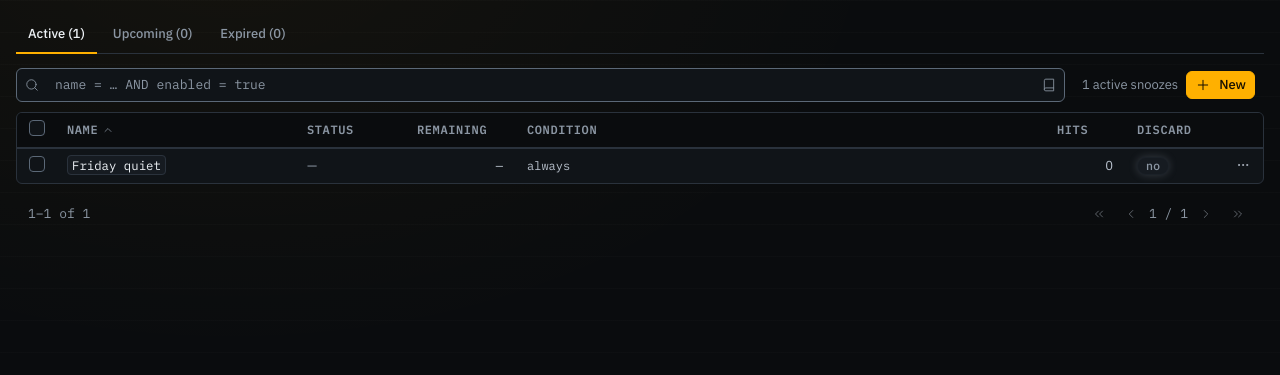
Test case: SnoozesPage › row-actions kebab includes Copy/Delete, not just Edit and retro-apply
The image size is (1280, 375).
Check: the text "Friday quiet" is shown, box [67,155,166,175]
Click the button named "row actions" at (1243, 165), box [1229,151,1257,179]
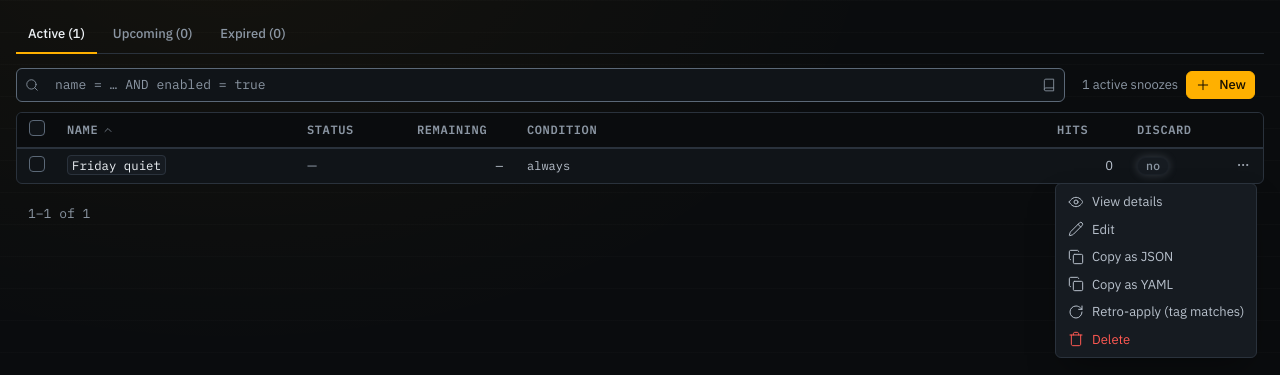
Check: the menu item "Edit" is shown, box [1068,220,1115,238]
Check: the menu item "Copy as JSON" is shown, box [1068,248,1173,265]
Check: the menu item "Copy as YAML" is shown, box [1068,276,1173,292]
